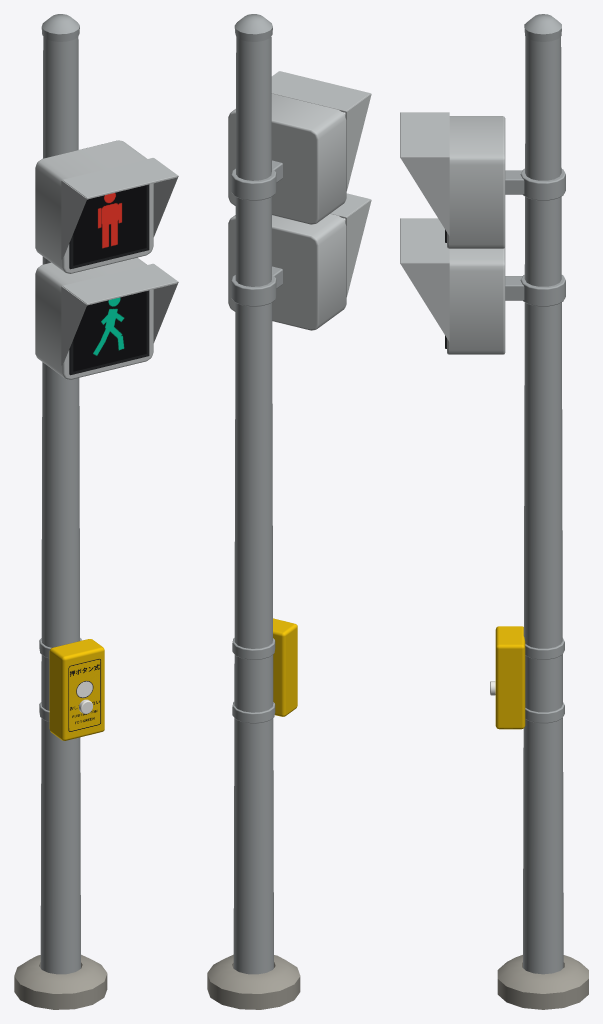
Rendered from traffic_signal_pedestrian.fbx.
3 views of the same model, side by side, from view 1: azimuth 30°, elevation 25°; view 2: azimuth 150°, elevation 25°; view 3: azimuth 270°, elevation 25° (orthographic).
Visible parts, largest first — view 1: traffic_signal_pedestrian; view 2: traffic_signal_pedestrian; view 3: traffic_signal_pedestrian.
Boxes of the visible parts, x1,y1,x2,y2 form: traffic_signal_pedestrian: [14, 14, 178, 1009]; traffic_signal_pedestrian: [207, 14, 371, 1009]; traffic_signal_pedestrian: [400, 14, 588, 1009].
Bounding box in the file's own units: 0.366 × 3.67 × 0.646.
9 materials, 3 textured.
